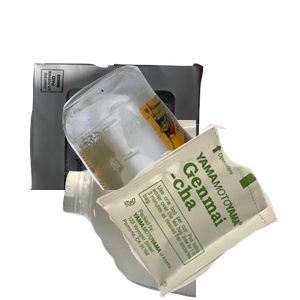glass: (60, 63, 300, 243)
paper: (27, 60, 223, 240)
plastic: (60, 120, 300, 300)
trash: (91, 124, 300, 300)
